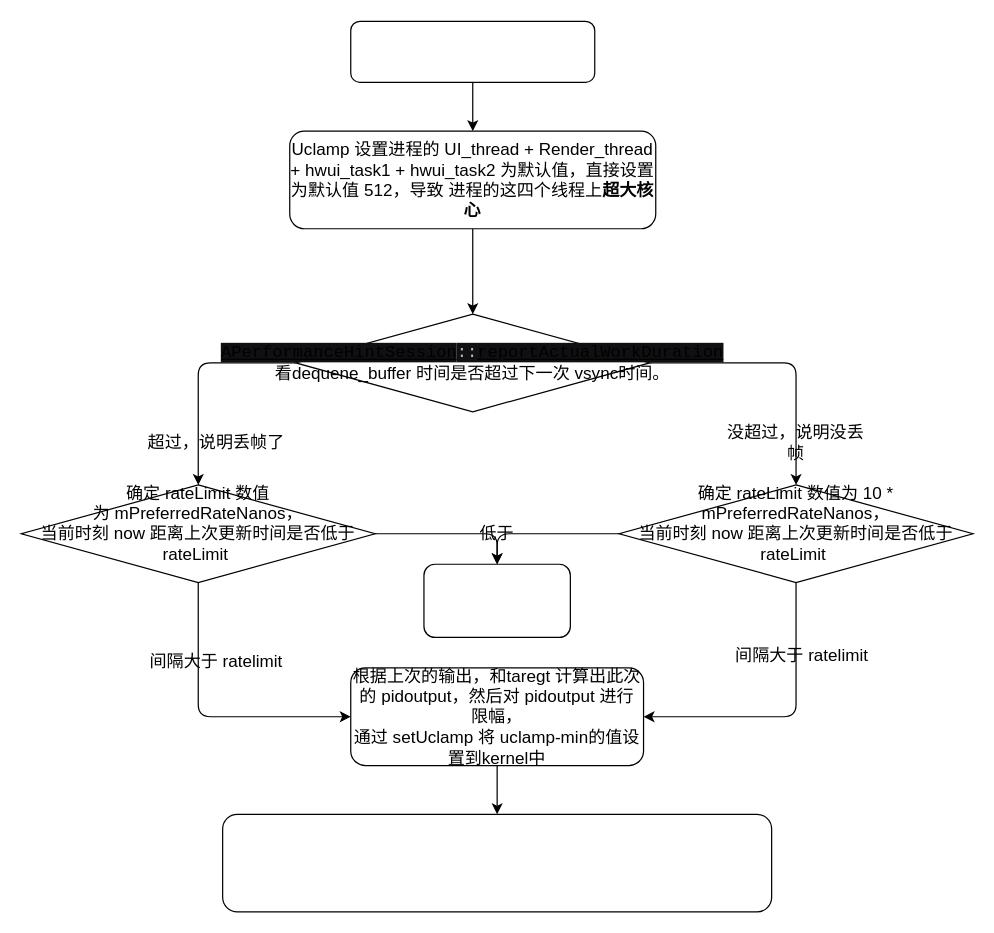
This 994x933 diagram has some shape labels left out. The shapes that lost their labels are listed below. From the top down, each one's centre as x and y in pixels, then its label:
At point (472, 51): "进程启动，Render_thread 启动".
At point (496, 600): "直接返回，此次不更新 uclamp".
At point (496, 862): "setUclamp 通过 sched_setattr 系统调用来设置线程的 uclamp_min".
